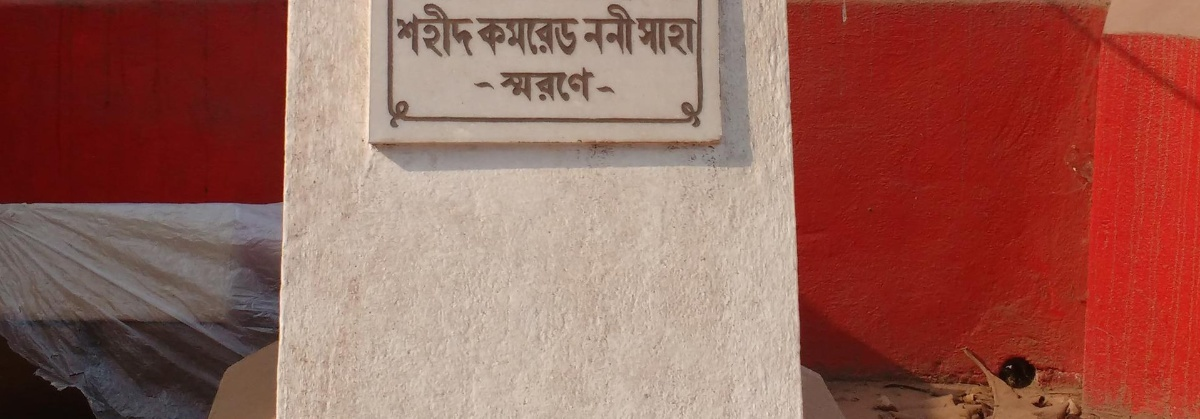text: (593, 2, 608, 61), (609, 2, 624, 61), (625, 2, 640, 61), (401, 2, 416, 59), (417, 2, 432, 59), (433, 2, 448, 59), (449, 2, 464, 59), (481, 12, 496, 61), (497, 12, 512, 61), (513, 12, 528, 61), (529, 12, 544, 61), (545, 12, 560, 61), (561, 12, 576, 61), (580, 2, 592, 61), (465, 2, 477, 59), (641, 12, 656, 56), (657, 12, 672, 56), (673, 12, 688, 56), (513, 66, 528, 103), (529, 66, 544, 103), (545, 66, 560, 103), (561, 66, 576, 103), (577, 66, 592, 103), (499, 66, 512, 103), (689, 12, 698, 56), (577, 12, 585, 61), (641, 2, 646, 61), (475, 12, 480, 61), (635, 12, 640, 56), (593, 66, 598, 103), (397, 2, 400, 59)
